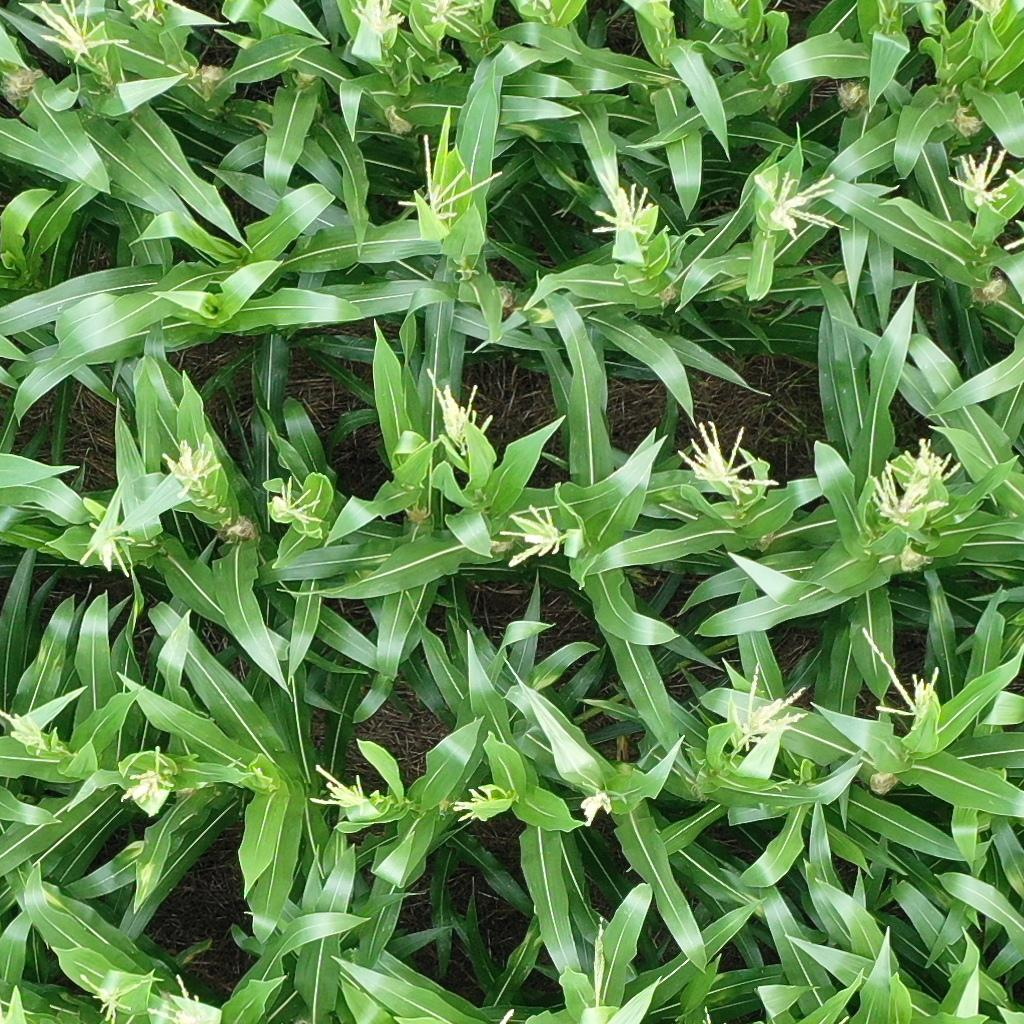Tassel: (673, 411, 781, 500), (396, 130, 503, 219), (717, 659, 806, 746), (754, 164, 853, 240), (863, 621, 939, 720), (424, 359, 497, 455), (35, 1, 132, 58), (946, 137, 1013, 209), (499, 501, 572, 567), (875, 461, 946, 523), (73, 514, 141, 578), (120, 743, 180, 809), (589, 182, 656, 237), (898, 434, 961, 492), (149, 969, 211, 1021), (77, 968, 139, 1019), (310, 759, 374, 808), (162, 438, 219, 493), (1, 709, 52, 756), (270, 476, 320, 523), (349, 1, 407, 38), (422, 1, 485, 35), (577, 785, 613, 825), (449, 782, 481, 821), (129, 1, 164, 26)
